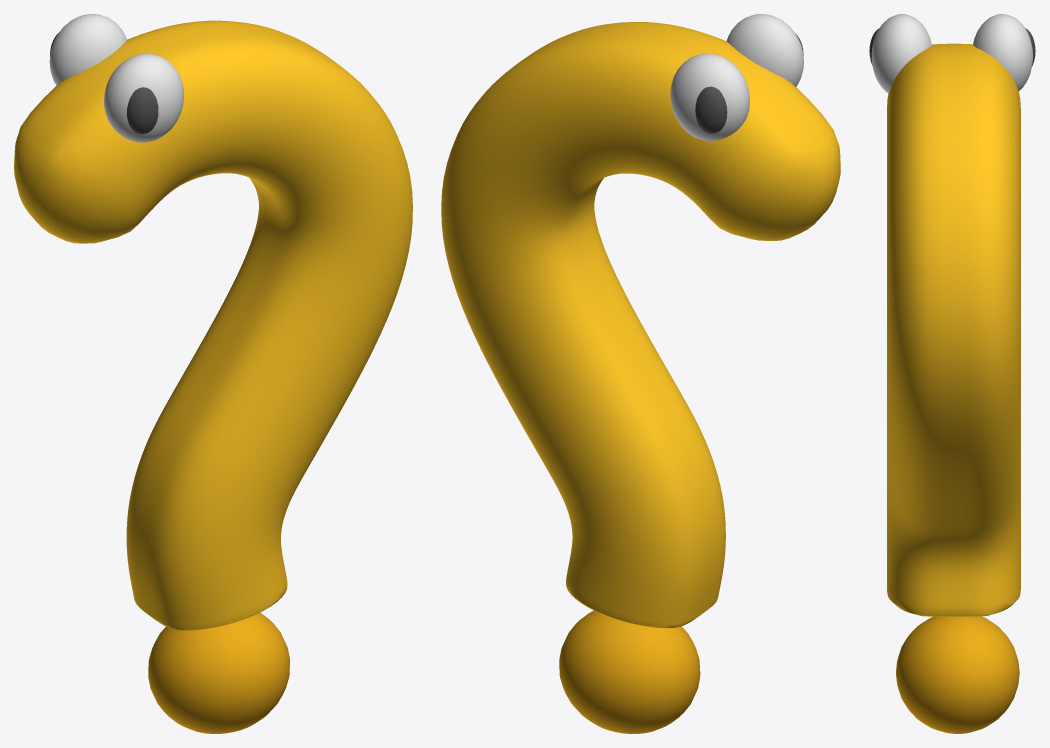
The model's file is PontoInt.fbx.
3 renders of one model, left to right at view 1: azimuth 30°, elevation 25°; view 2: azimuth 150°, elevation 25°; view 3: azimuth 270°, elevation 25°, orthographic. The views are drawn at different scales.
Visible parts, largest first — view 1: Body, Tail, Eye; view 2: Body, Tail, Eye; view 3: Body, Tail, Eye.
Boxes of the visible parts, x1=… form: Body: x1=14, y1=20, x2=412, y2=630; Tail: x1=148, y1=612, x2=289, y2=733; Eye: x1=49, y1=14, x2=184, y2=142; Body: x1=441, y1=22, x2=840, y2=628; Tail: x1=559, y1=610, x2=700, y2=733; Eye: x1=670, y1=14, x2=803, y2=140; Body: x1=887, y1=43, x2=1020, y2=616; Tail: x1=896, y1=616, x2=1019, y2=733; Eye: x1=869, y1=14, x2=1035, y2=93.
Bounding box in the file's own units: 218 × 398 × 90.35.
